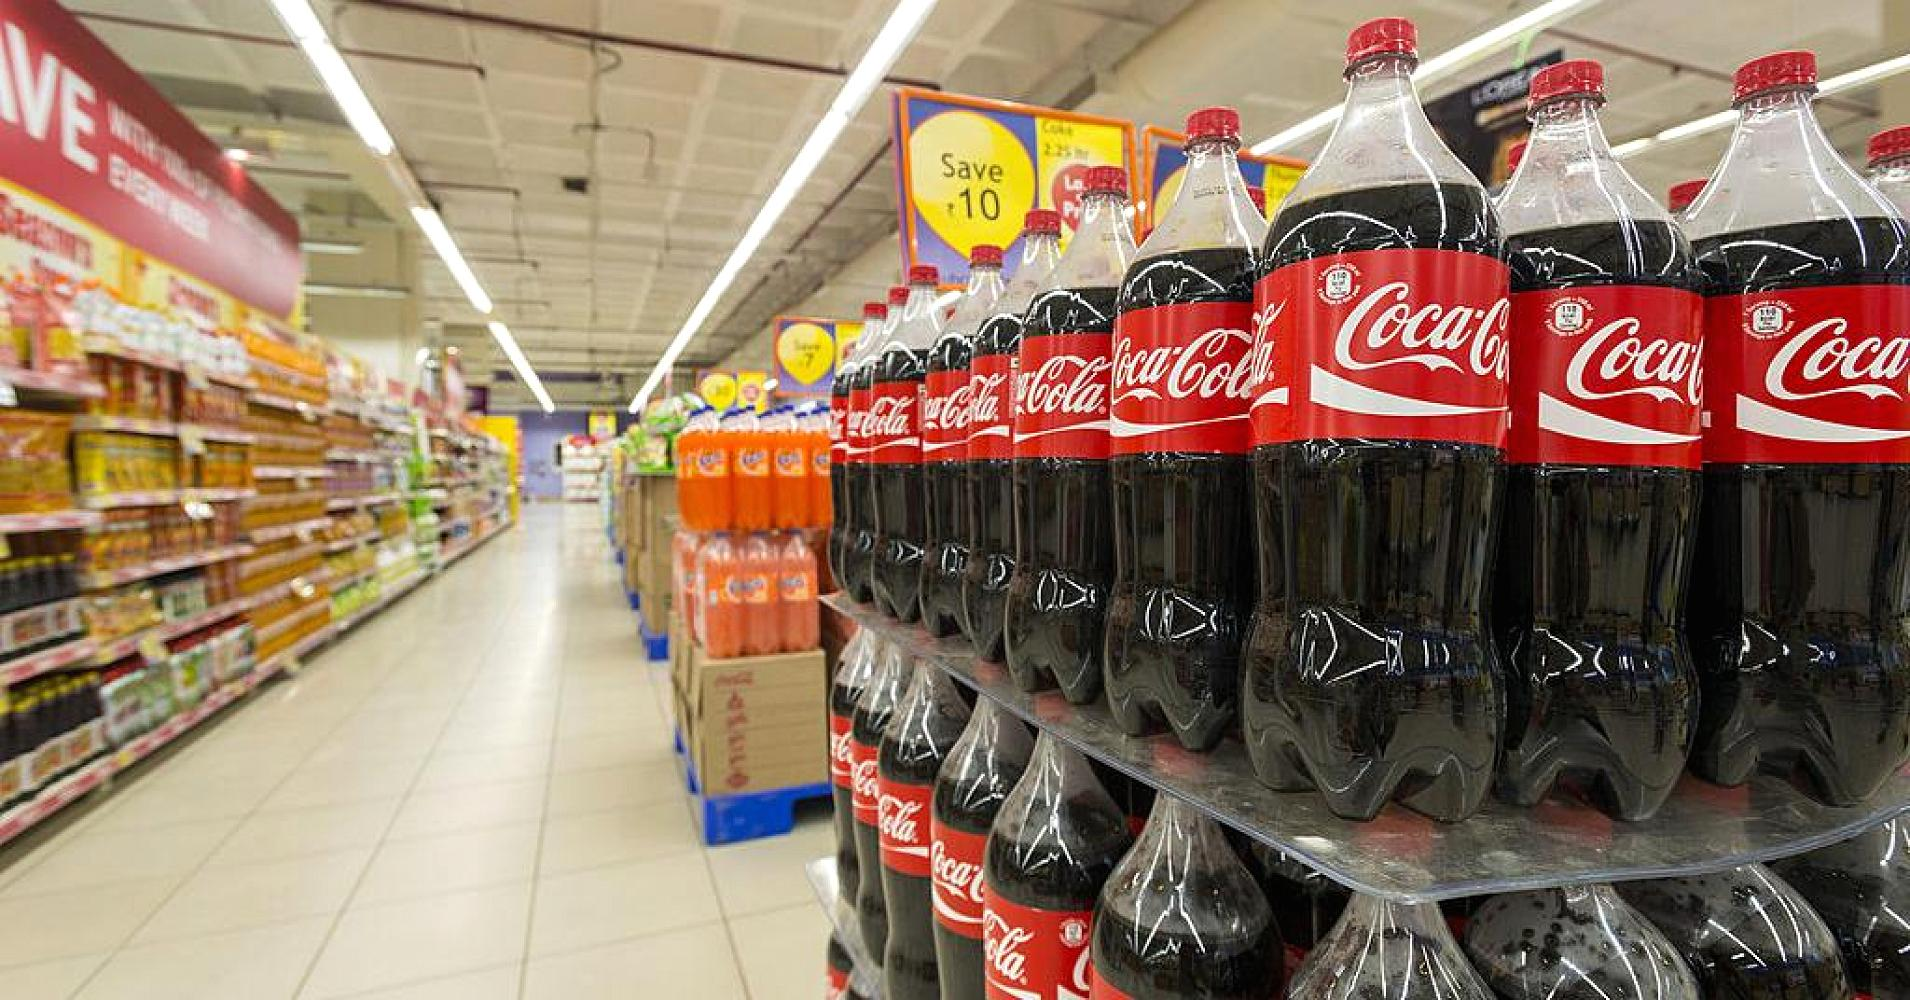coke: (1264, 28, 1515, 818), (1499, 81, 1704, 821), (1707, 76, 1899, 803), (1124, 133, 1271, 753), (1019, 183, 1115, 723), (1124, 806, 1266, 996), (990, 746, 1093, 1000), (921, 283, 987, 662), (826, 626, 889, 981), (872, 301, 934, 638), (879, 657, 931, 992), (974, 247, 1014, 673), (939, 698, 987, 992), (834, 318, 879, 606)
